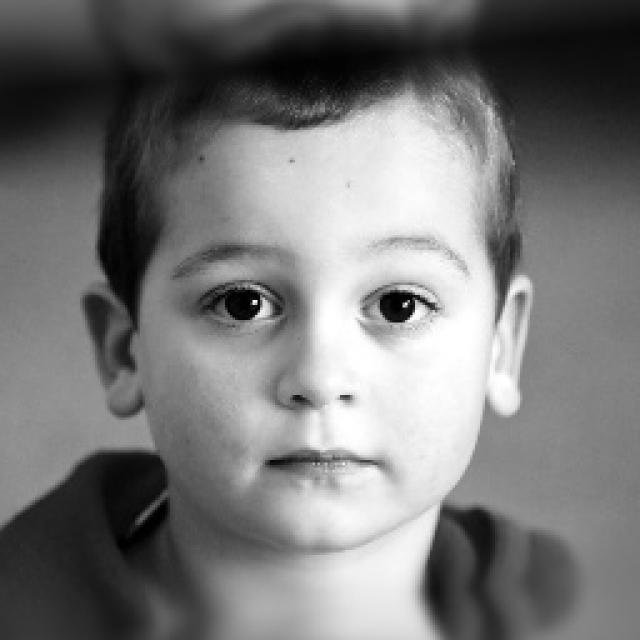no-glasses: (171, 254, 467, 366)
